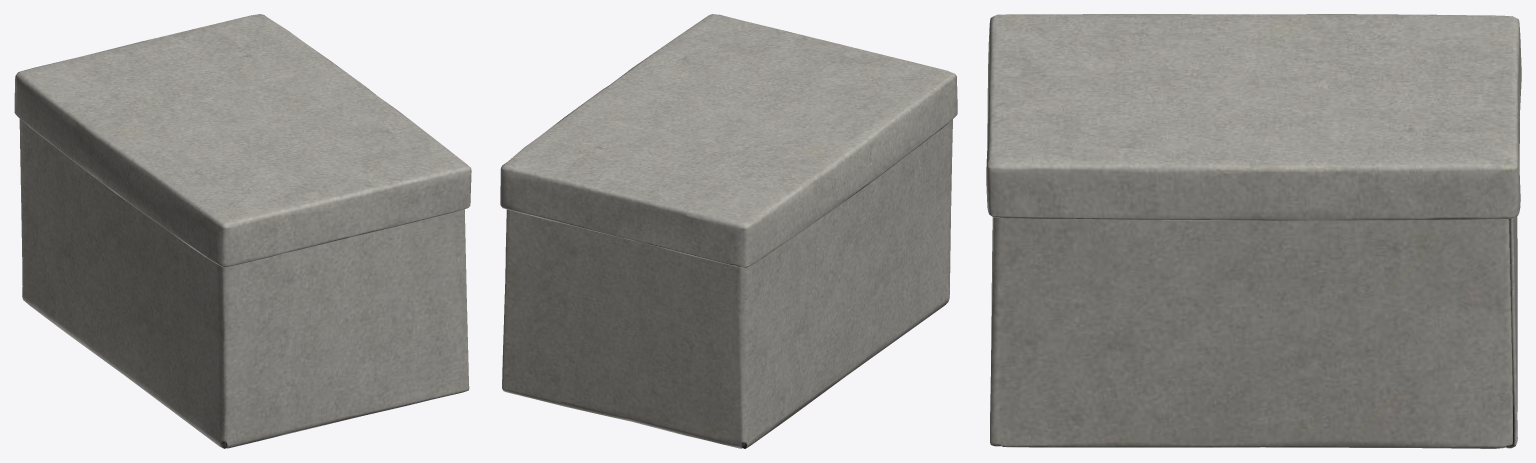
File: gjatta_pojemnik_z_pokrywka_80599679.glb
3 renders of one model, left to right at view 1: azimuth 30°, elevation 25°; view 2: azimuth 150°, elevation 25°; view 3: azimuth 270°, elevation 25°, orthographic. The views are drawn at different scales.
Parts seen in each view (by area): view 1: gjatta_pojemnik_z_pokrywka_80599679; view 2: gjatta_pojemnik_z_pokrywka_80599679; view 3: gjatta_pojemnik_z_pokrywka_80599679.
Boxes of the visible parts, bbox=[...] form: gjatta_pojemnik_z_pokrywka_80599679: bbox=[14, 14, 471, 448]; gjatta_pojemnik_z_pokrywka_80599679: bbox=[500, 14, 957, 448]; gjatta_pojemnik_z_pokrywka_80599679: bbox=[986, 14, 1521, 448].
Bounding box in the file's own units: 0.1749 × 0.1502 × 0.2501.
1 material, 1 textured.
